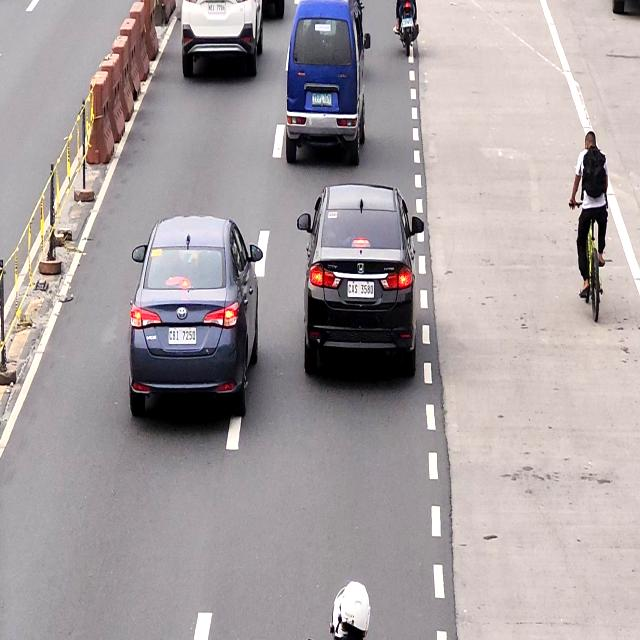Car: (132, 220, 257, 412), (303, 185, 419, 380), (284, 0, 369, 156), (181, 0, 263, 73)
License-Plate: (168, 326, 198, 346), (348, 282, 377, 300), (312, 92, 332, 107), (208, 0, 226, 16)
